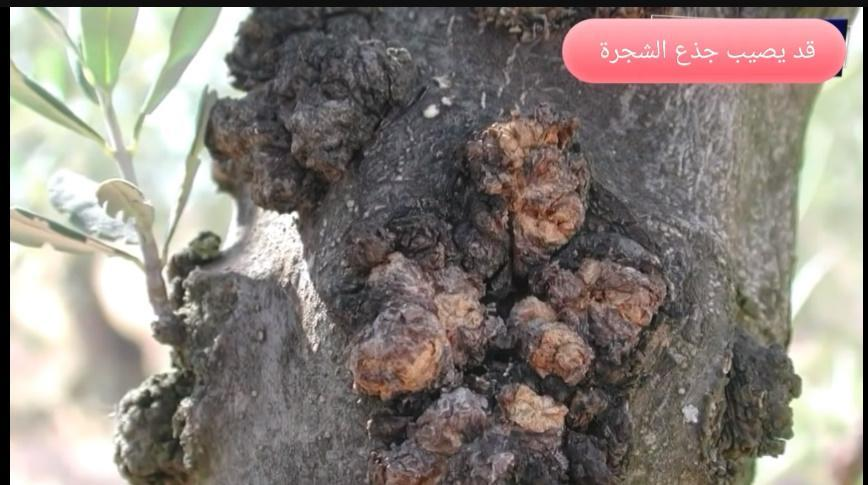Tuberculosis: (328, 100, 675, 484)
